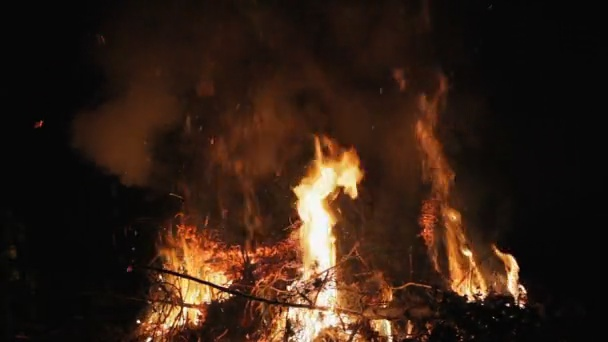fire: (281, 144, 362, 342), (146, 231, 228, 326), (422, 205, 486, 300), (416, 92, 453, 196), (496, 251, 519, 298)
